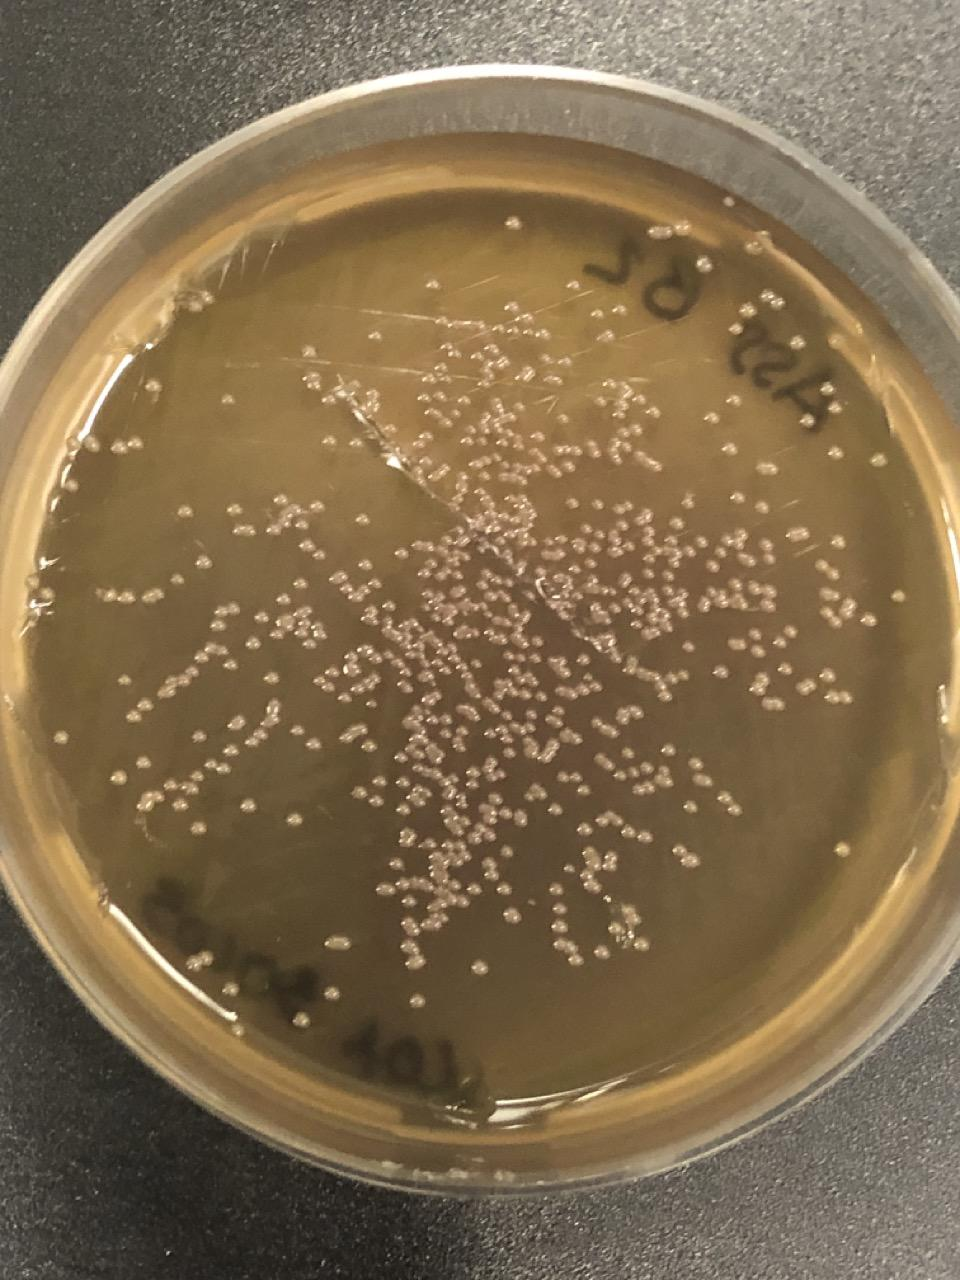assalmonicida: (430, 652, 483, 684), (186, 640, 230, 678), (369, 646, 412, 678), (482, 723, 516, 759), (294, 616, 328, 652), (572, 521, 606, 554), (746, 580, 777, 614), (634, 508, 656, 549), (211, 602, 241, 632), (416, 556, 448, 582), (620, 823, 656, 846), (466, 820, 497, 846), (338, 721, 370, 745), (376, 877, 412, 897), (352, 671, 382, 695), (758, 290, 788, 312), (420, 834, 456, 852), (682, 535, 710, 558), (706, 546, 728, 574), (773, 625, 798, 649), (261, 698, 280, 729), (458, 434, 492, 451), (202, 756, 230, 776), (819, 606, 844, 628), (815, 559, 840, 581), (581, 669, 602, 695), (184, 769, 204, 796), (311, 674, 335, 694), (750, 671, 769, 695), (482, 856, 498, 884), (610, 499, 636, 516), (438, 712, 453, 741), (594, 752, 616, 771), (556, 684, 579, 702), (552, 938, 577, 954), (666, 670, 691, 686), (452, 568, 466, 596), (760, 538, 774, 566), (141, 789, 164, 806), (344, 650, 358, 676), (608, 532, 622, 558), (604, 849, 619, 873), (796, 678, 817, 695), (760, 698, 786, 711), (407, 994, 427, 1010), (398, 916, 418, 932), (669, 842, 689, 858), (574, 822, 594, 838), (284, 812, 304, 828), (238, 798, 258, 814), (869, 454, 889, 470), (400, 826, 414, 848), (400, 894, 418, 911), (548, 802, 567, 818), (386, 858, 406, 873), (696, 596, 712, 614), (754, 500, 770, 518), (418, 428, 434, 446), (703, 410, 719, 428), (555, 410, 571, 428), (693, 774, 713, 788), (726, 638, 746, 652), (321, 434, 337, 451), (826, 399, 842, 416), (600, 329, 616, 346), (322, 986, 341, 1000), (632, 784, 654, 796), (758, 464, 780, 476), (729, 490, 745, 506), (530, 430, 546, 446), (725, 394, 741, 410), (592, 394, 608, 410), (321, 394, 337, 410), (456, 392, 472, 408), (415, 390, 431, 406), (367, 328, 383, 344), (503, 300, 519, 316), (504, 216, 520, 232), (838, 691, 856, 705), (664, 532, 678, 550), (568, 276, 582, 294), (426, 276, 440, 294), (722, 442, 738, 457), (347, 436, 364, 450), (112, 770, 126, 786), (734, 528, 750, 542), (112, 440, 126, 456), (86, 436, 100, 452), (128, 436, 144, 450), (800, 414, 816, 428), (511, 400, 527, 414), (433, 390, 449, 404), (819, 382, 835, 396), (520, 366, 534, 382), (790, 336, 806, 350), (728, 322, 744, 336), (520, 310, 534, 326), (590, 306, 604, 322), (740, 304, 756, 318), (612, 304, 628, 318), (514, 811, 528, 826), (527, 651, 541, 666), (680, 496, 694, 511), (552, 920, 566, 934), (504, 909, 518, 923), (553, 902, 567, 916), (455, 894, 469, 908), (585, 880, 599, 894), (448, 880, 462, 894), (174, 798, 188, 812), (369, 794, 383, 808), (488, 791, 502, 805), (352, 786, 366, 800), (555, 770, 569, 784), (136, 755, 150, 769), (394, 750, 408, 764), (223, 744, 237, 758), (362, 738, 376, 752), (306, 738, 320, 752), (244, 735, 258, 749), (192, 730, 206, 744), (456, 723, 470, 737), (289, 723, 303, 737), (552, 704, 566, 718), (422, 692, 436, 706), (338, 691, 352, 705), (658, 690, 672, 704), (535, 690, 549, 704), (518, 688, 532, 702), (492, 688, 506, 702), (265, 671, 279, 685), (823, 668, 837, 682), (778, 660, 792, 674), (223, 658, 237, 672), (576, 653, 590, 667), (751, 645, 765, 659), (680, 638, 694, 652), (246, 636, 260, 650), (530, 635, 544, 649), (269, 628, 283, 642), (747, 627, 761, 641), (629, 616, 643, 630), (863, 612, 877, 626), (518, 610, 532, 624), (677, 606, 691, 620), (383, 598, 397, 612), (276, 592, 290, 606), (891, 590, 905, 604), (102, 589, 116, 603), (820, 588, 834, 602), (340, 581, 354, 595), (728, 578, 742, 592), (368, 578, 382, 592), (292, 578, 306, 592), (168, 574, 182, 588), (356, 557, 370, 571), (742, 556, 756, 570), (582, 556, 596, 570), (196, 556, 210, 570), (313, 548, 327, 562), (394, 546, 408, 560), (422, 540, 436, 554), (624, 539, 638, 553), (440, 532, 454, 546), (670, 517, 684, 531), (273, 492, 287, 506), (592, 496, 605, 511), (498, 806, 511, 820), (396, 802, 409, 816), (620, 746, 633, 760), (524, 708, 537, 722), (364, 698, 378, 711), (118, 674, 131, 688), (500, 649, 513, 663), (255, 610, 268, 624), (642, 568, 655, 582), (642, 552, 655, 566), (832, 535, 845, 549), (616, 518, 629, 532), (311, 500, 324, 514), (374, 774, 386, 789), (550, 883, 562, 897), (498, 882, 510, 896), (470, 880, 482, 894), (562, 862, 574, 876), (500, 845, 512, 859), (164, 778, 176, 792), (398, 776, 410, 790), (571, 770, 583, 784), (689, 756, 701, 770), (662, 742, 674, 756), (500, 708, 512, 722), (402, 681, 414, 695), (716, 666, 728, 680), (646, 610, 658, 624), (607, 602, 621, 614), (476, 578, 488, 592), (618, 574, 630, 588), (662, 568, 674, 582), (356, 514, 368, 528), (179, 506, 193, 518), (627, 766, 639, 779), (640, 761, 652, 774), (326, 666, 338, 679), (566, 496, 578, 509), (830, 446, 842, 459), (602, 894, 614, 906), (837, 844, 849, 856), (730, 804, 742, 816), (684, 801, 696, 813), (577, 784, 589, 796), (658, 765, 670, 777), (407, 616, 419, 628), (365, 604, 377, 616), (420, 602, 432, 614), (478, 600, 490, 612), (435, 590, 447, 602), (421, 588, 433, 600), (503, 577, 515, 589), (535, 567, 547, 579), (568, 563, 580, 575), (460, 550, 472, 562), (613, 771, 625, 782)
